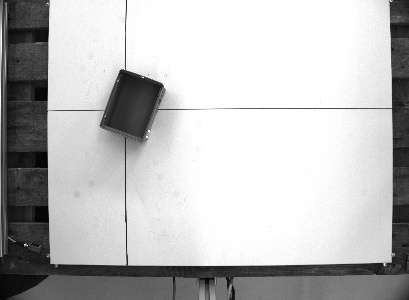klts: (98, 67, 167, 146)
